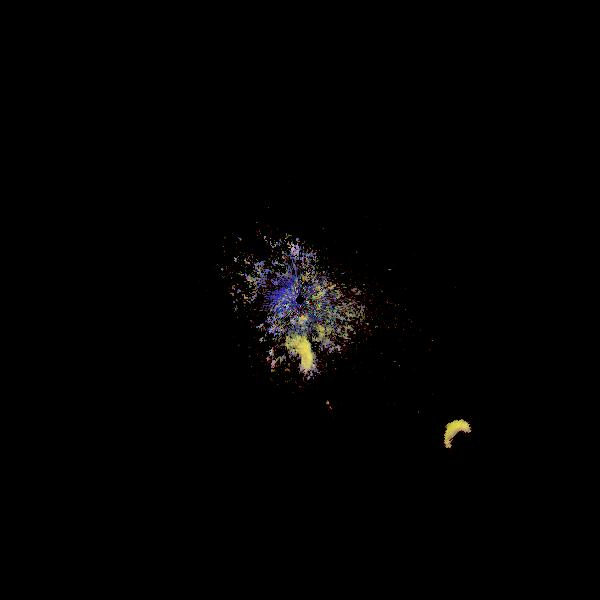roost: (265, 332, 319, 386), (439, 416, 484, 461)
